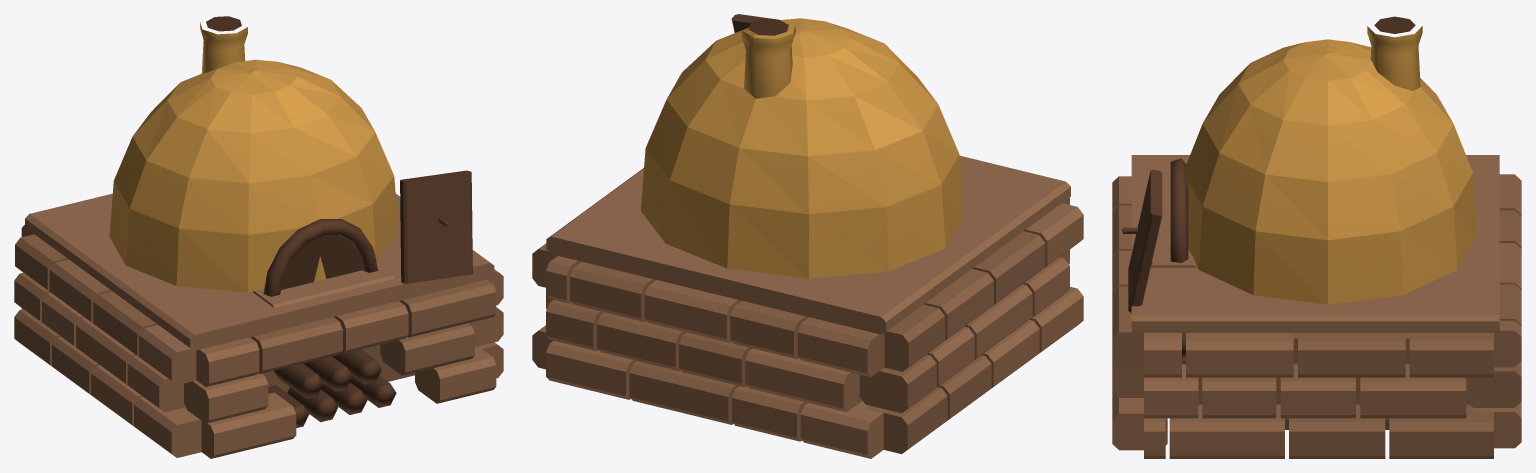
File: prop_clay_oven_a.glb
3 views of the same model, side by side, from view 1: azimuth 30°, elevation 25°; view 2: azimuth 150°, elevation 25°; view 3: azimuth 270°, elevation 25° (orthographic). The views are drawn at different scales.
Parts seen in each view (by area): view 1: prop_clay_oven_a_mesh; view 2: prop_clay_oven_a_mesh; view 3: prop_clay_oven_a_mesh.
Part boxes in pixels (left/top/right/bottom): prop_clay_oven_a_mesh: left=14, top=16, right=503, bottom=458; prop_clay_oven_a_mesh: left=532, top=14, right=1083, bottom=458; prop_clay_oven_a_mesh: left=1112, top=16, right=1521, bottom=458.
Bounding box in the file's own units: 1.55 × 1.38 × 1.48.
